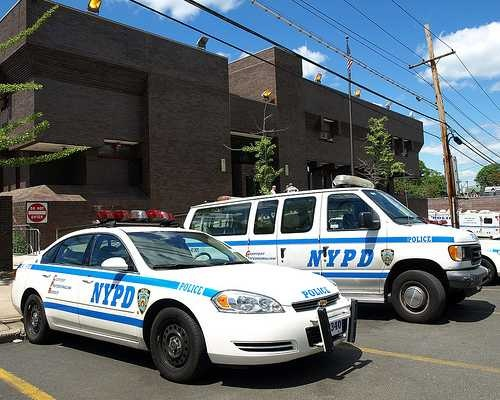Police Car: (1, 211, 359, 381)
Police Van: (157, 171, 495, 329)
